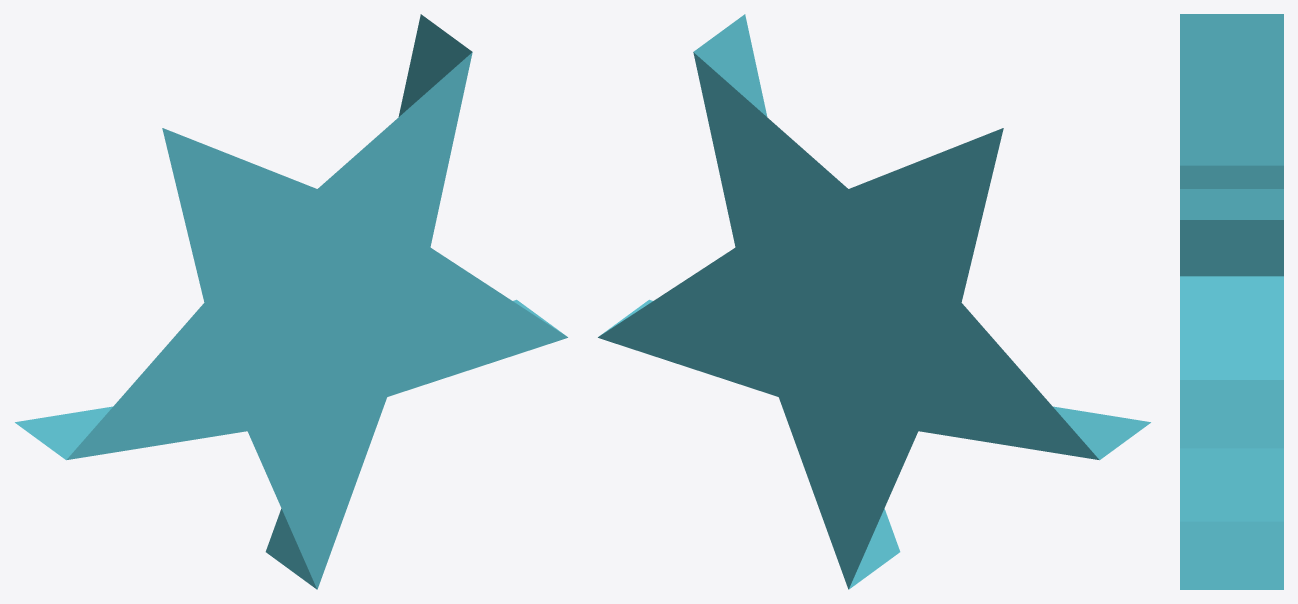
File: orbit-toy.gltf
3 renders of one model, left to right at view 1: azimuth 30°, elevation 25°; view 2: azimuth 150°, elevation 25°; view 3: azimuth 270°, elevation 25°, orthographic.
Visible parts, largest first — view 1: OrbitToy; view 2: OrbitToy; view 3: OrbitToy.
Part boxes in pixels (x1,y1,x2,y2): OrbitToy: (15, 14, 567, 589); OrbitToy: (598, 14, 1150, 589); OrbitToy: (1180, 14, 1283, 589).
Size of the model in its own units: 1.9 by 1.81 by 0.34.
